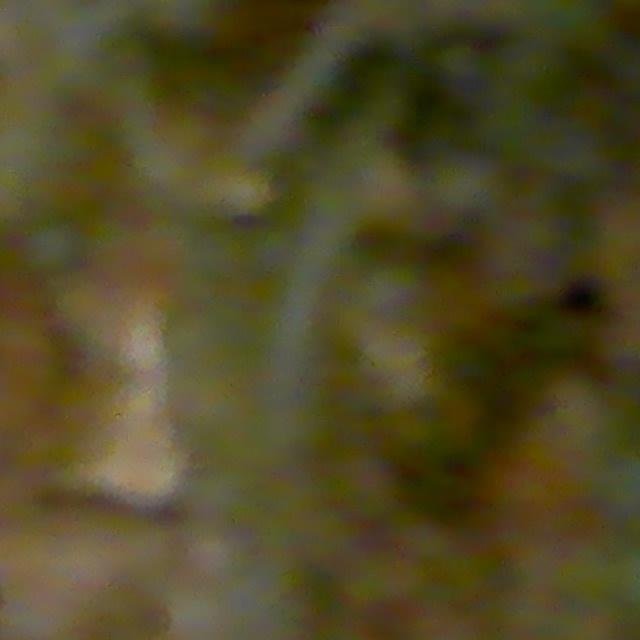SeaGrape: (21, 217, 86, 278)
